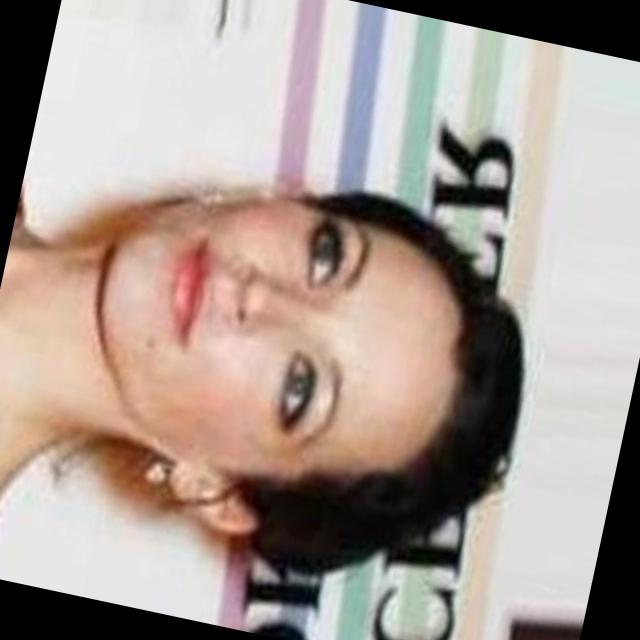bareface: (64, 173, 444, 470)
